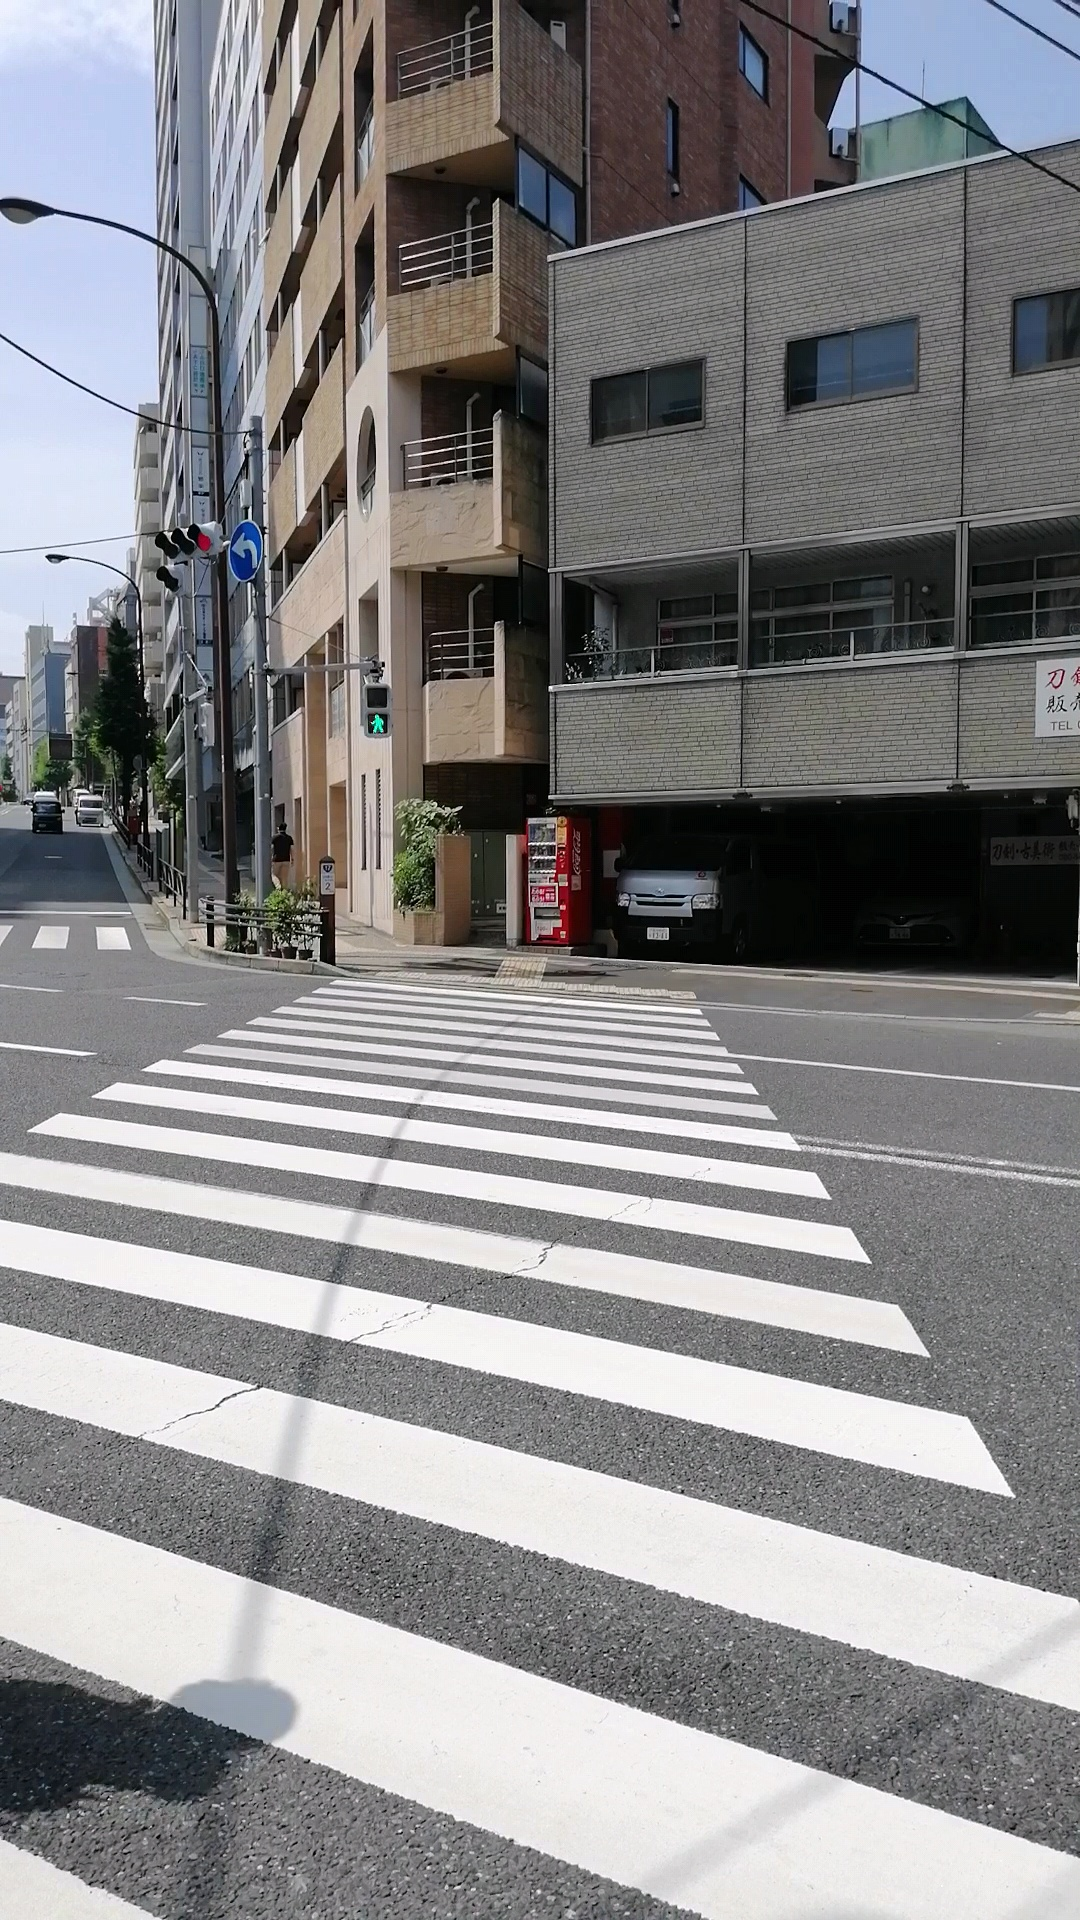green: (360, 682, 392, 738)
